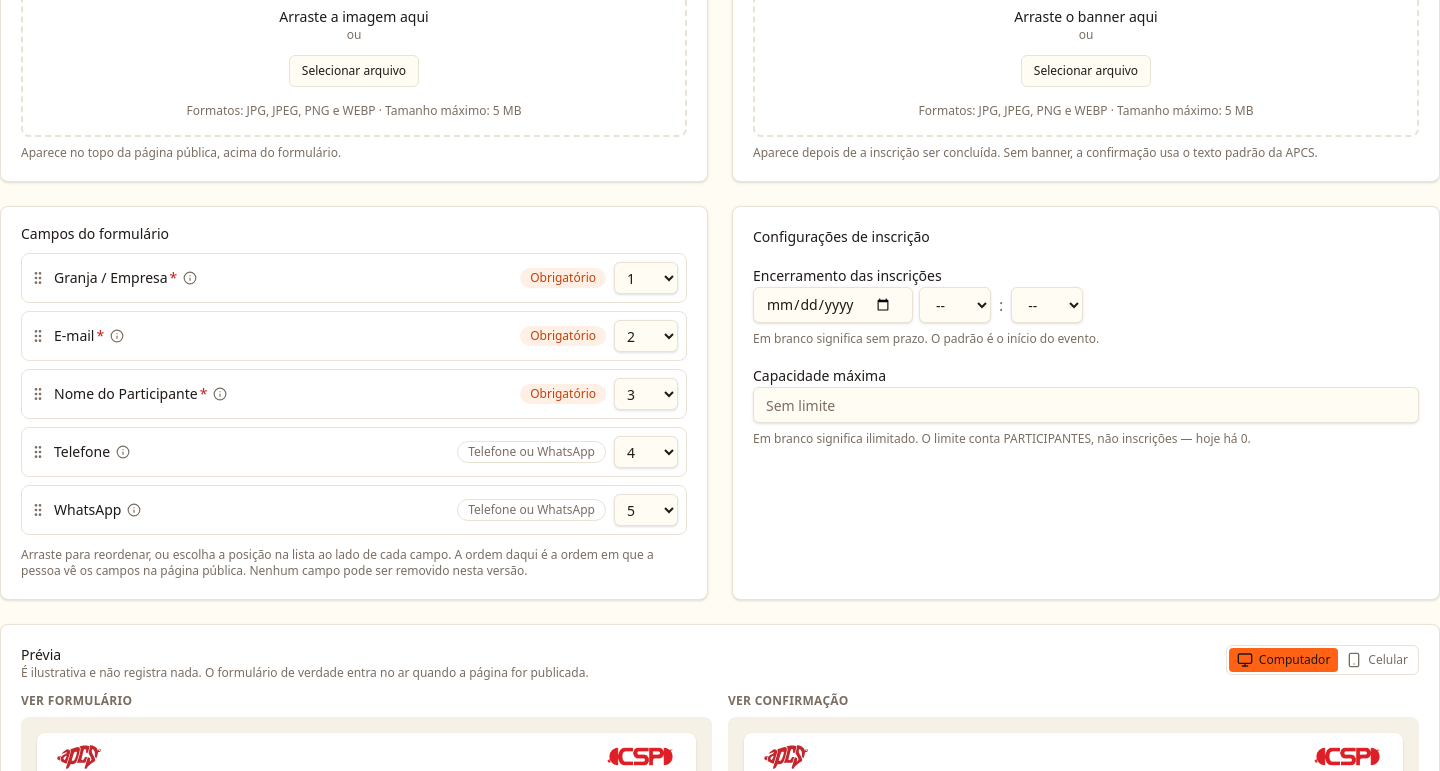
Test case: salvar (§22, §28) › erro do servidor aparece traduzido, sem detalhe interno
(page scrolled)
Type "1" into the field labelled "Capacidade máxima". click: (1086, 405)
box: [753, 387, 1419, 423]
(page scrolled)
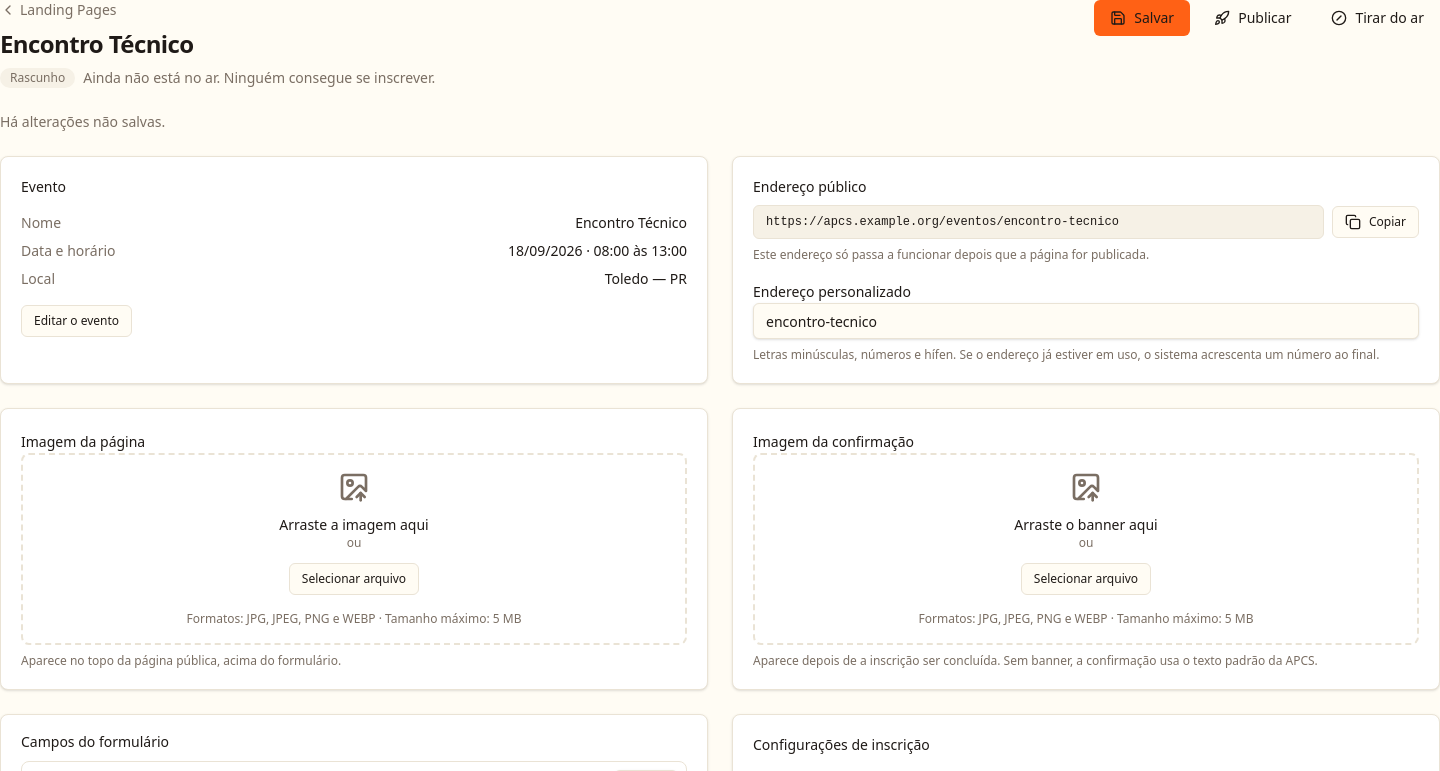
Click the button "Salvar". click: (1142, 18)
box: [1094, 0, 1190, 36]
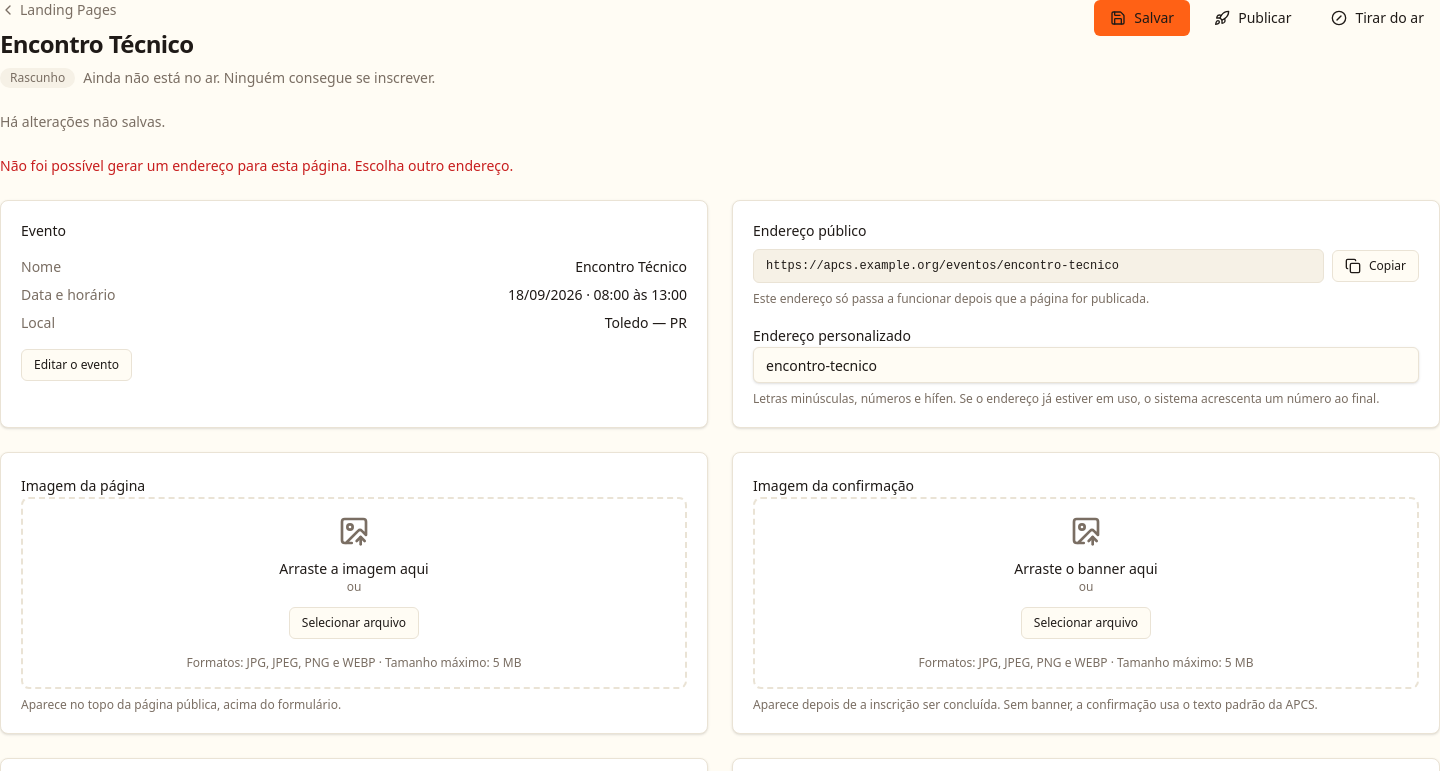
Check: the message "Não foi possível gerar um endereço para esta página. Escolha outro endereço." is shown, box [0, 156, 513, 175]
